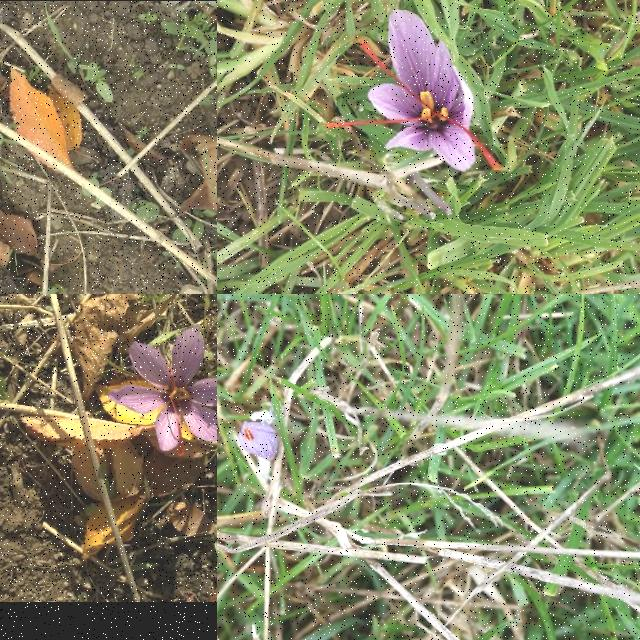flower: (324, 9, 504, 172), (107, 324, 217, 452), (239, 421, 281, 461)
